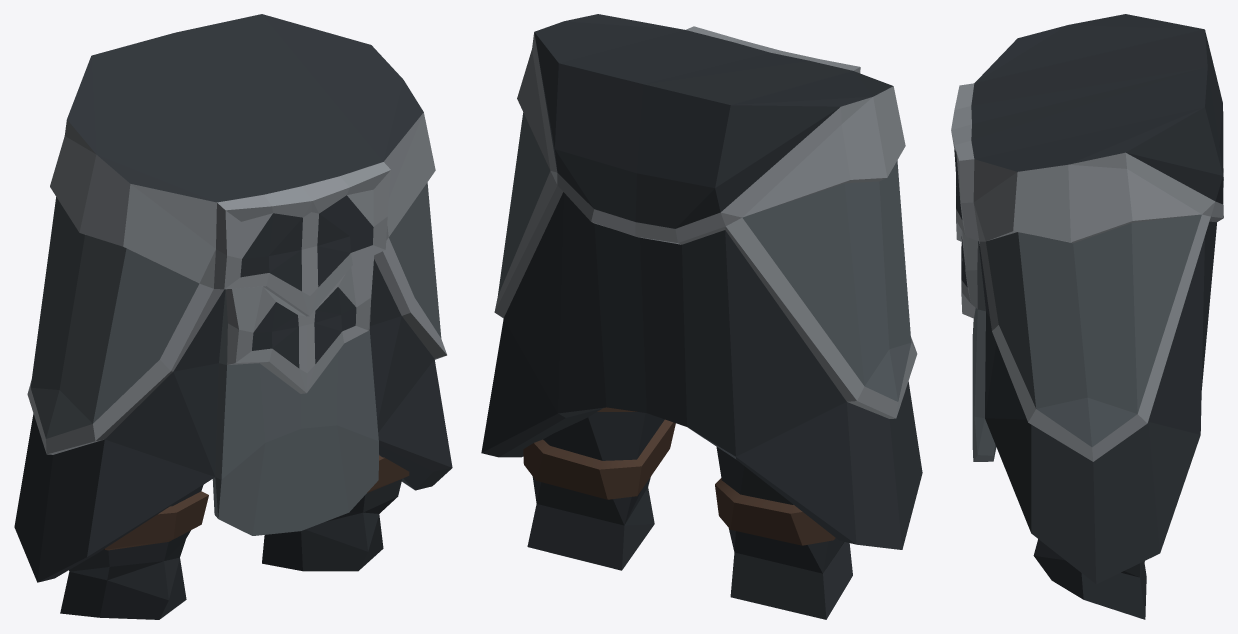
The model's file is Chr_Hips_Male_16_Static.fbx.
3 views of the same model, side by side, from view 1: azimuth 30°, elevation 25°; view 2: azimuth 150°, elevation 25°; view 3: azimuth 270°, elevation 25° (orthographic). The views are drawn at different scales.
Parts seen in each view (by area): view 1: Chr_Hips_Male_16_Static; view 2: Chr_Hips_Male_16_Static; view 3: Chr_Hips_Male_16_Static.
Boxes of the visible parts, x1,y1,x2,y2 form: Chr_Hips_Male_16_Static: (14,14,452,619); Chr_Hips_Male_16_Static: (481,14,922,619); Chr_Hips_Male_16_Static: (951,14,1223,619).
Size of the model in its own units: 0.4403 by 0.554 by 0.2823.
